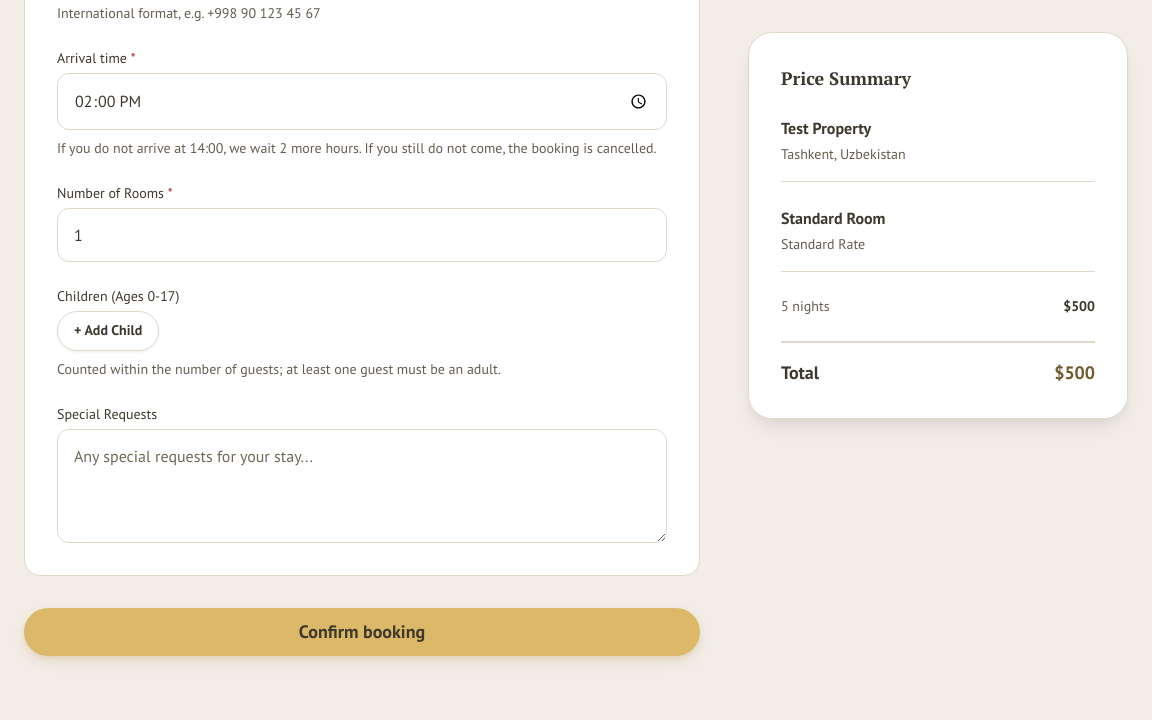
it: BookingPage › cash booking (plan PLAN_CASH_ONLY stage 2) › says the booking is temporarily unavailable when no exchange rate exists yet (503)
This screenshot has width=1152, height=720.
(page scrolled)
Click the button "Confirm booking". click: (362, 632)
box: [24,608,700,656]
(page scrolled)
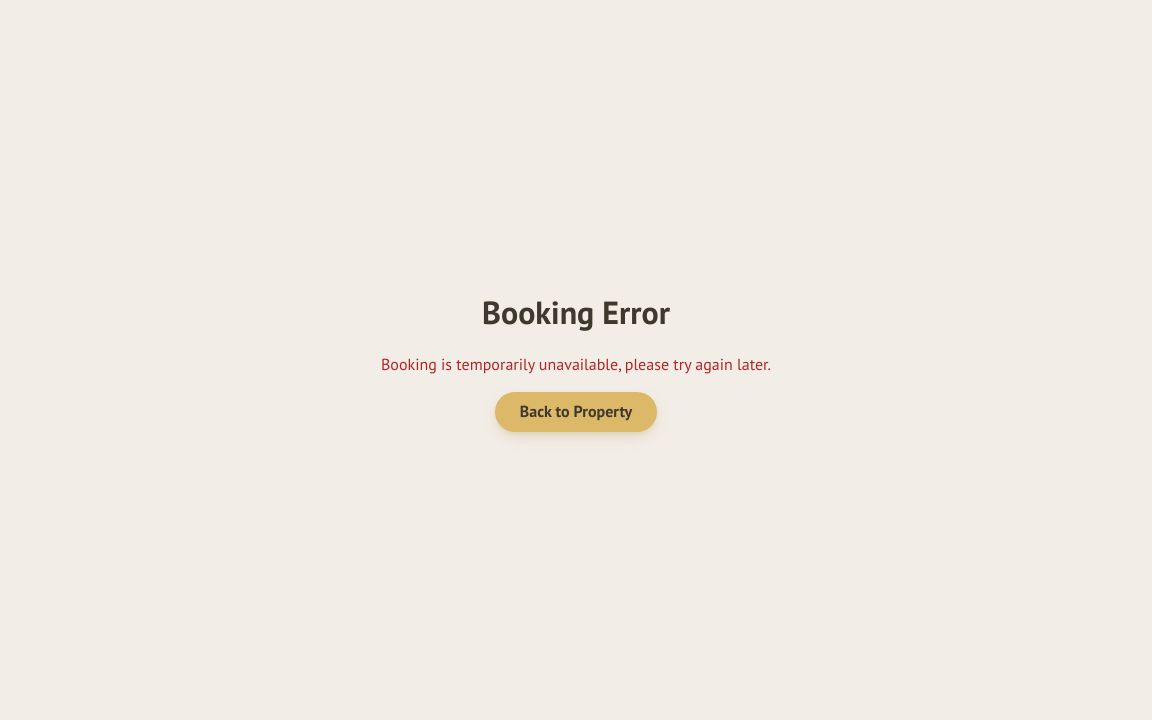
Expected: the message shows "Booking is temporarily unavailable, please try again later", [381,354,771,374]
